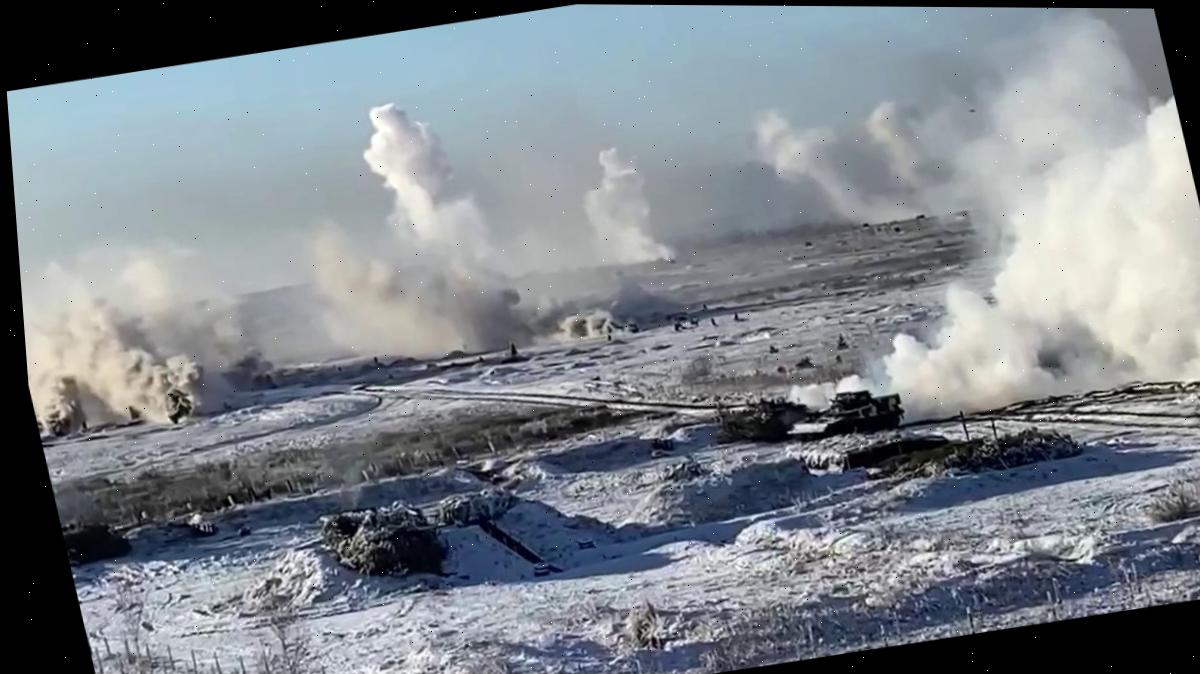tank: (777, 381, 912, 446), (719, 383, 826, 452)
